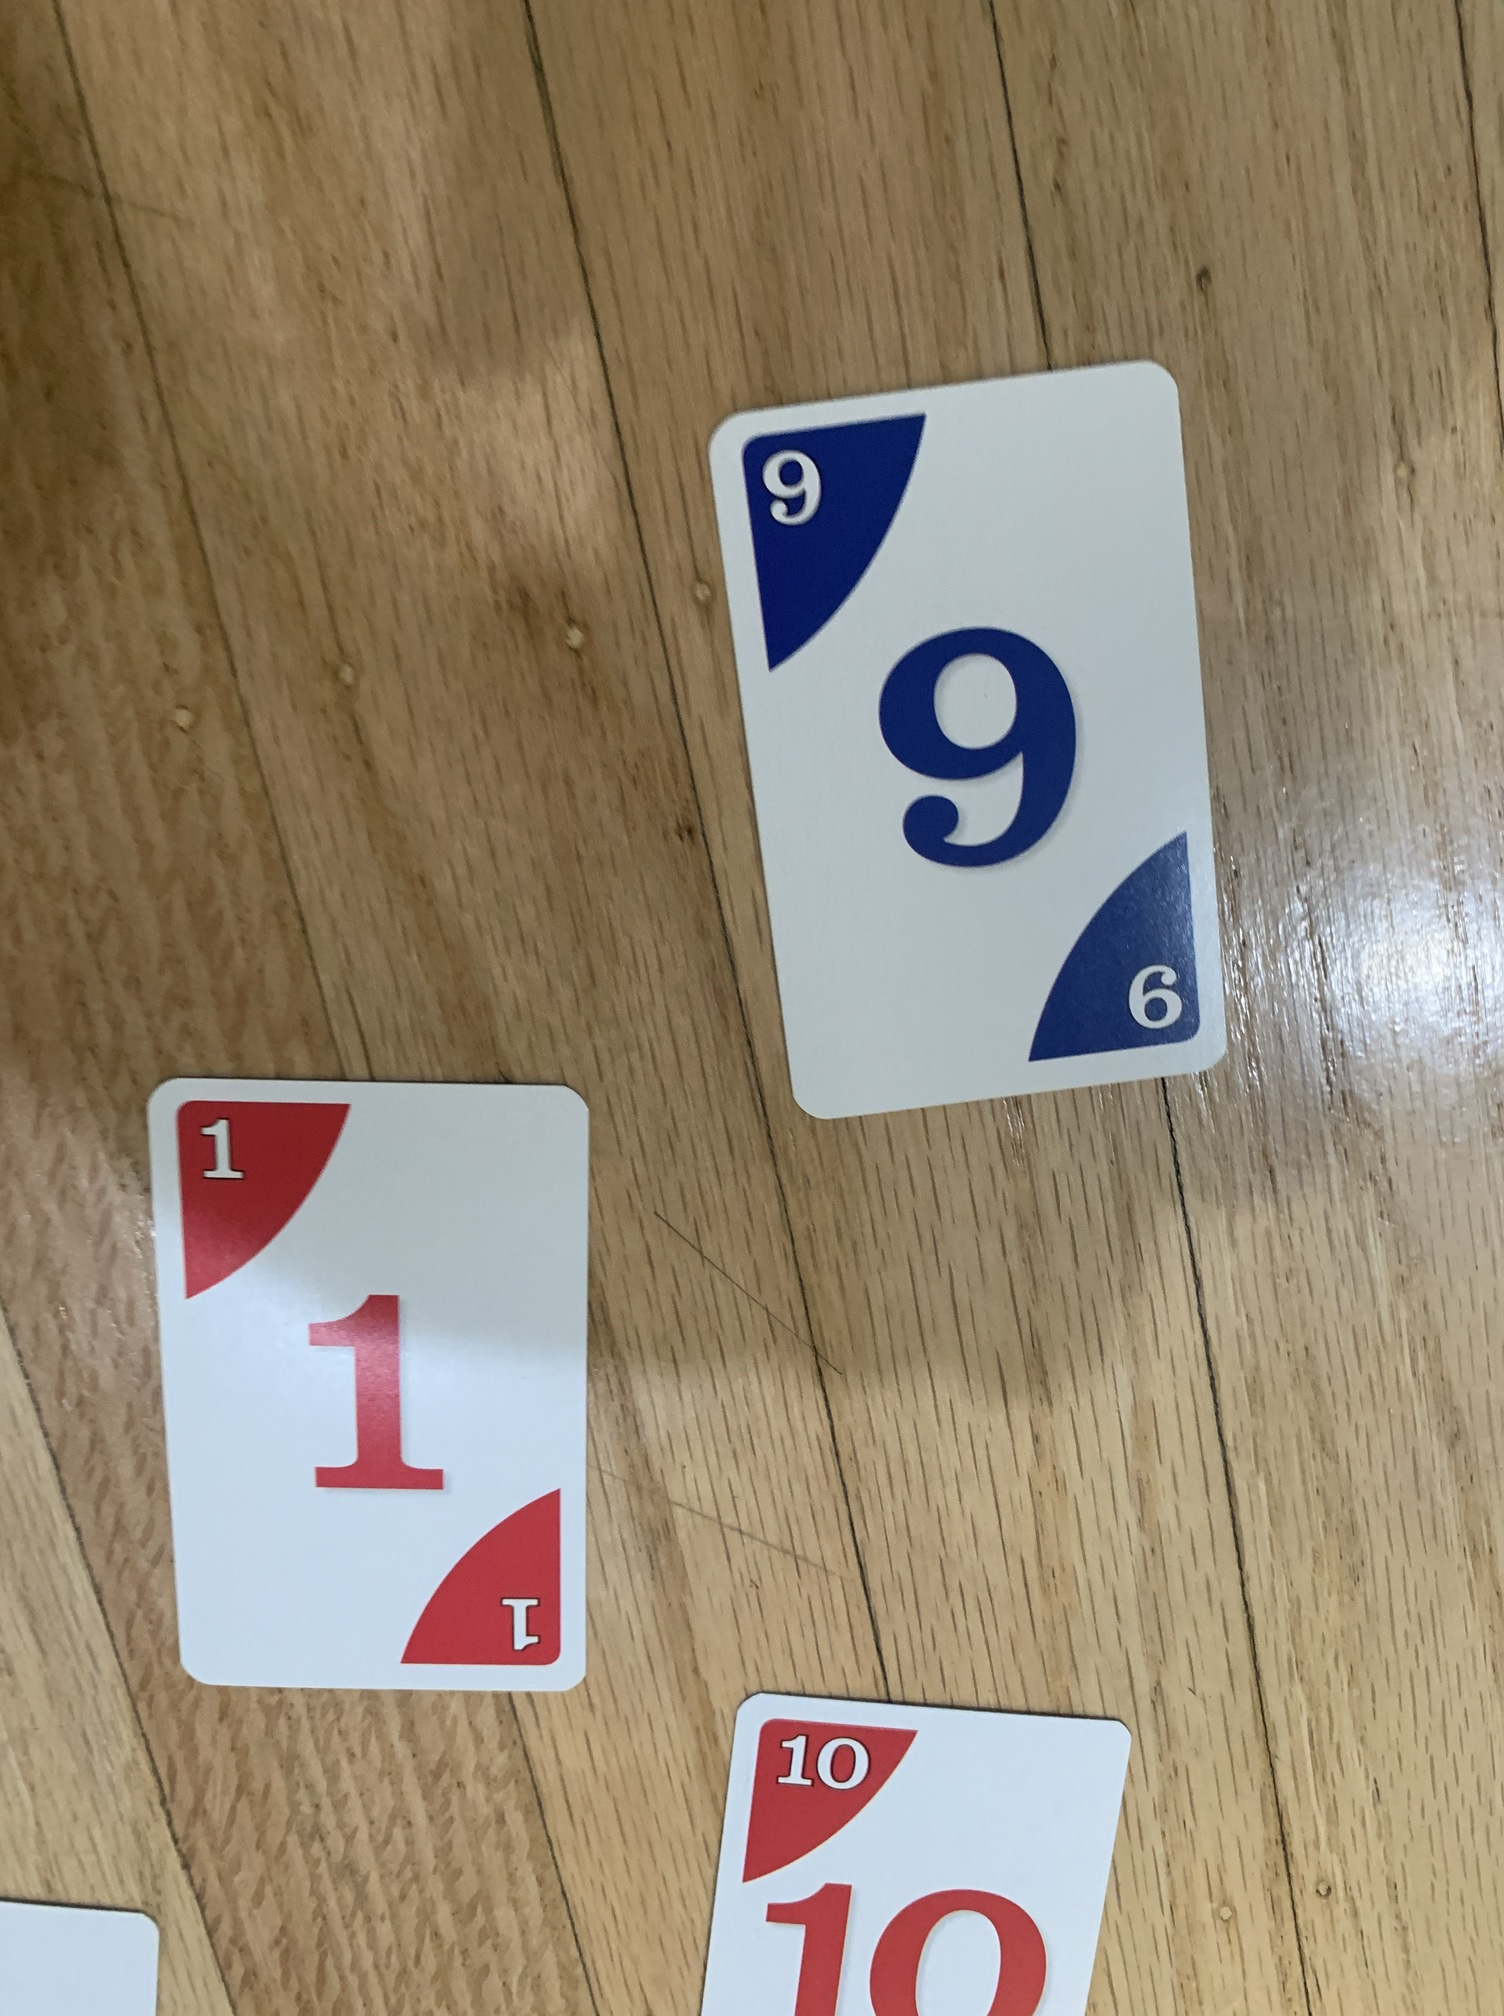nine: (698, 348, 1237, 1130)
one: (134, 1074, 597, 1705)
